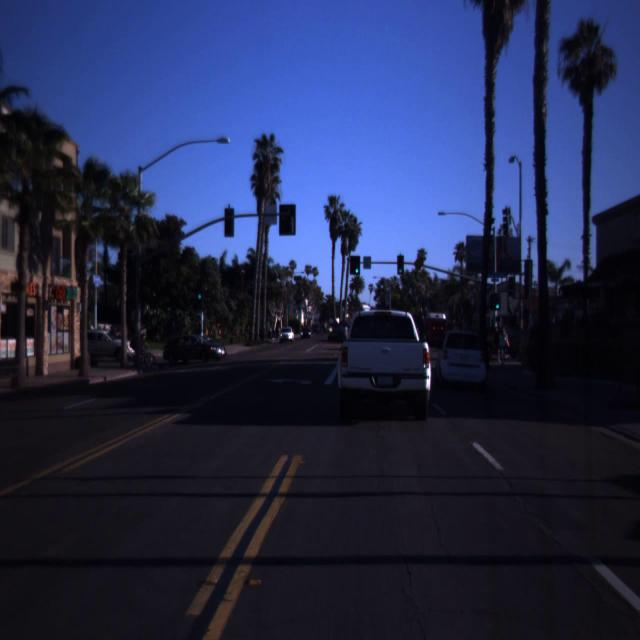go: (493, 290, 502, 310), (196, 280, 204, 300), (396, 260, 405, 273), (354, 257, 360, 274)
go traffic light: (493, 290, 502, 310), (196, 280, 204, 300), (396, 260, 405, 273), (354, 257, 360, 274)
